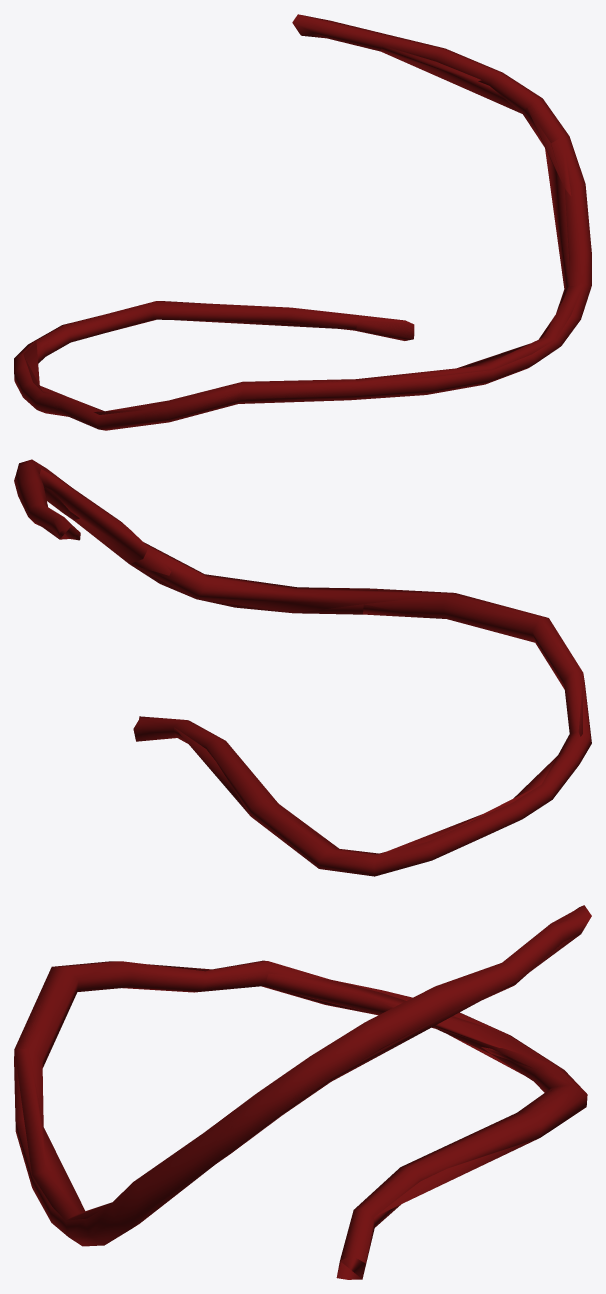
File: R arteria circumflexa humeri.fbx
The picture shows the model from 3 angles, top to bottom: view 1: azimuth 30°, elevation 25°; view 2: azimuth 150°, elevation 25°; view 3: azimuth 270°, elevation 25°; orthographic projection. The views are drawn at different scales.
Parts seen in each view (by area): view 1: R arteria circumflexa humeri, R arteria circumflexa humeri low; view 2: R arteria circumflexa humeri, R arteria circumflexa humeri low; view 3: R arteria circumflexa humeri, R arteria circumflexa humeri low.
Part boxes in pixels (bbox=[...]): R arteria circumflexa humeri: bbox=[14, 14, 591, 430]; R arteria circumflexa humeri low: bbox=[23, 15, 583, 429]; R arteria circumflexa humeri: bbox=[14, 459, 591, 876]; R arteria circumflexa humeri low: bbox=[26, 461, 583, 855]; R arteria circumflexa humeri: bbox=[14, 905, 591, 1279]; R arteria circumflexa humeri low: bbox=[14, 905, 583, 1279].
Size of the model in its own units: 11.35 by 5.72 by 8.24.
